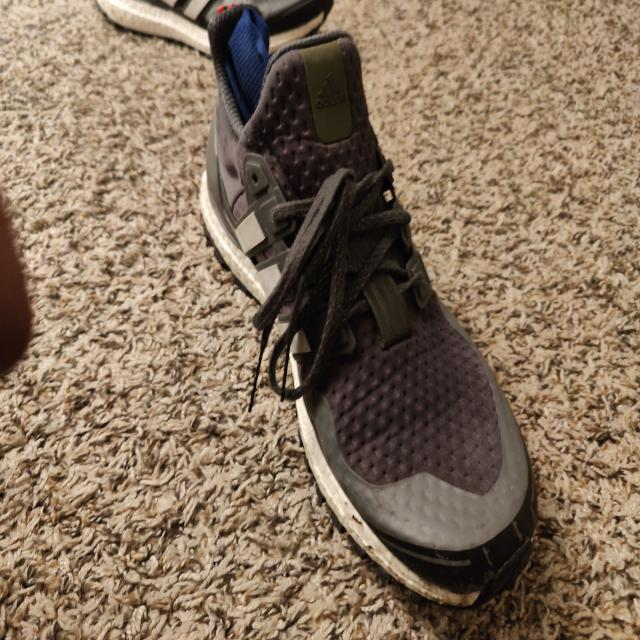black shoes: (211, 4, 533, 591)
